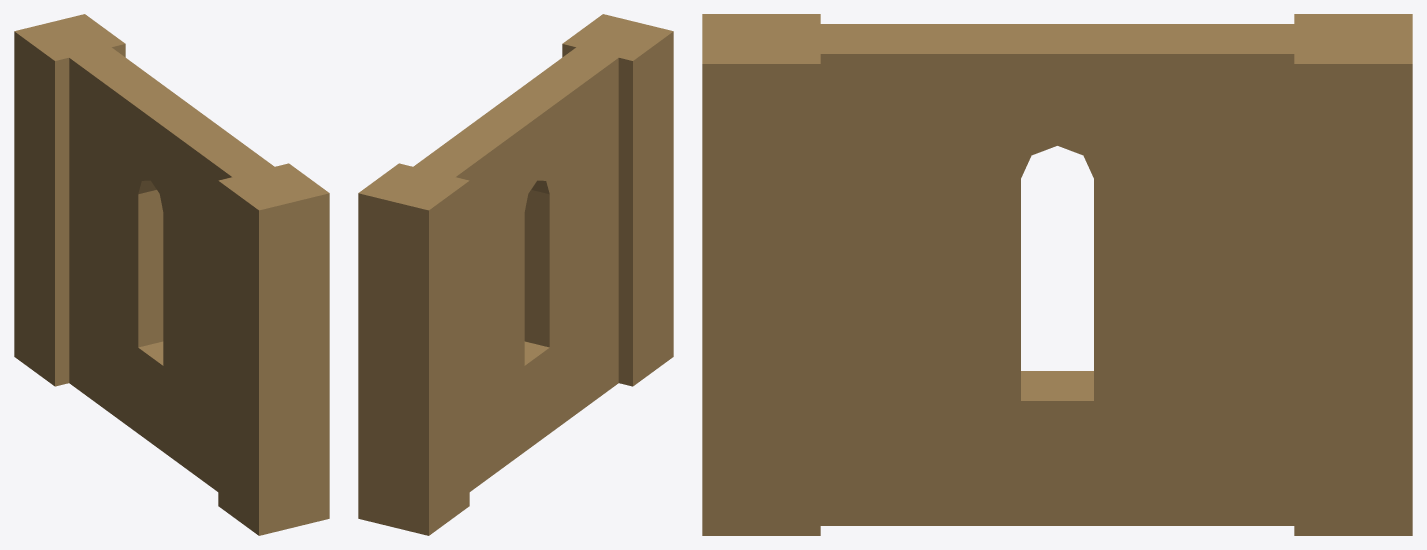
Rendered from wood_window_narrow_01.glb.
3 renders of one model, left to right at view 1: azimuth 30°, elevation 25°; view 2: azimuth 150°, elevation 25°; view 3: azimuth 270°, elevation 25°, orthographic. The views are drawn at different scales.
Parts seen in each view (by area): view 1: Mesh1 Wood_Window_Narrow Model; view 2: Mesh1 Wood_Window_Narrow Model; view 3: Mesh1 Wood_Window_Narrow Model.
Boxes of the visible parts, bbox=[...] form: Mesh1 Wood_Window_Narrow Model: bbox=[14, 14, 329, 535]; Mesh1 Wood_Window_Narrow Model: bbox=[358, 14, 673, 535]; Mesh1 Wood_Window_Narrow Model: bbox=[702, 14, 1412, 535].
Size of the model in its own units: 0.5 by 2.2 by 3.
